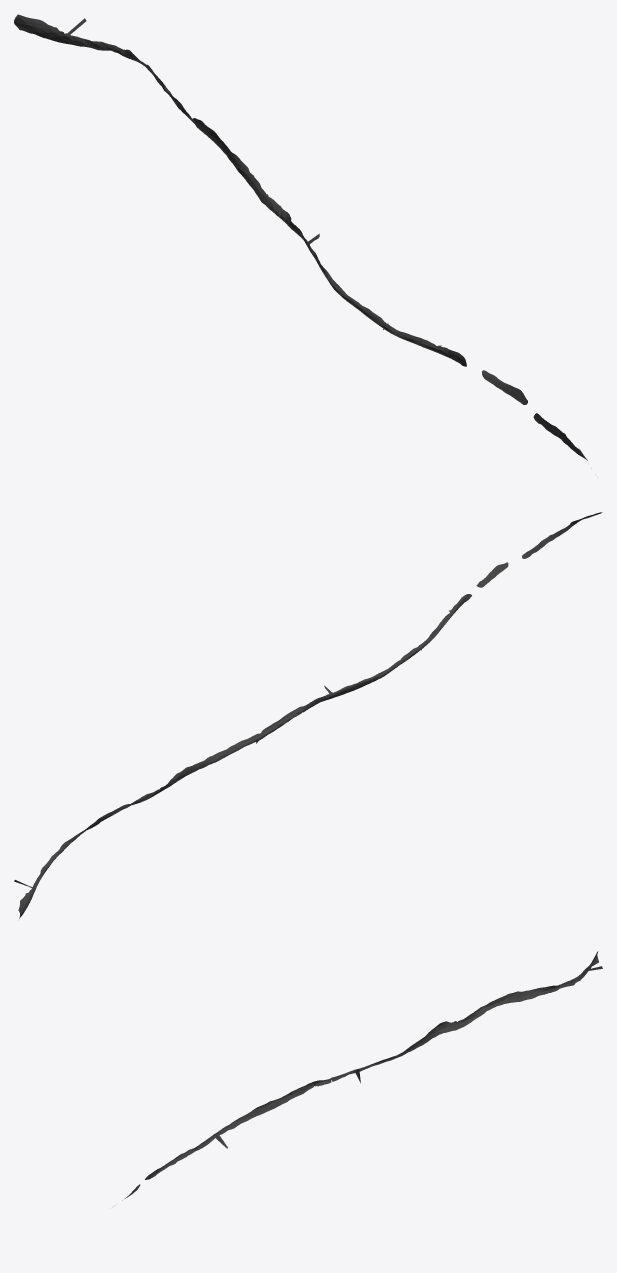
The model's file is nerve_medial_palm.glb.
3 renders of one model, top to bottom at view 1: azimuth 30°, elevation 25°; view 2: azimuth 150°, elevation 25°; view 3: azimuth 330°, elevation 25°, orthographic. The views are drawn at different scales.
Visible parts, largest first — view 1: nerve_medial_palm; view 2: nerve_medial_palm; view 3: nerve_medial_palm.
Boxes of the visible parts, left/top/right/bottom form: nerve_medial_palm: left=14, top=14, right=587, bottom=460; nerve_medial_palm: left=14, top=512, right=602, bottom=918; nerve_medial_palm: left=113, top=951, right=602, bottom=1206.
Size of the model in its own units: 0.0769 by 0.0441 by 0.6405.
1 material, 1 textured.
